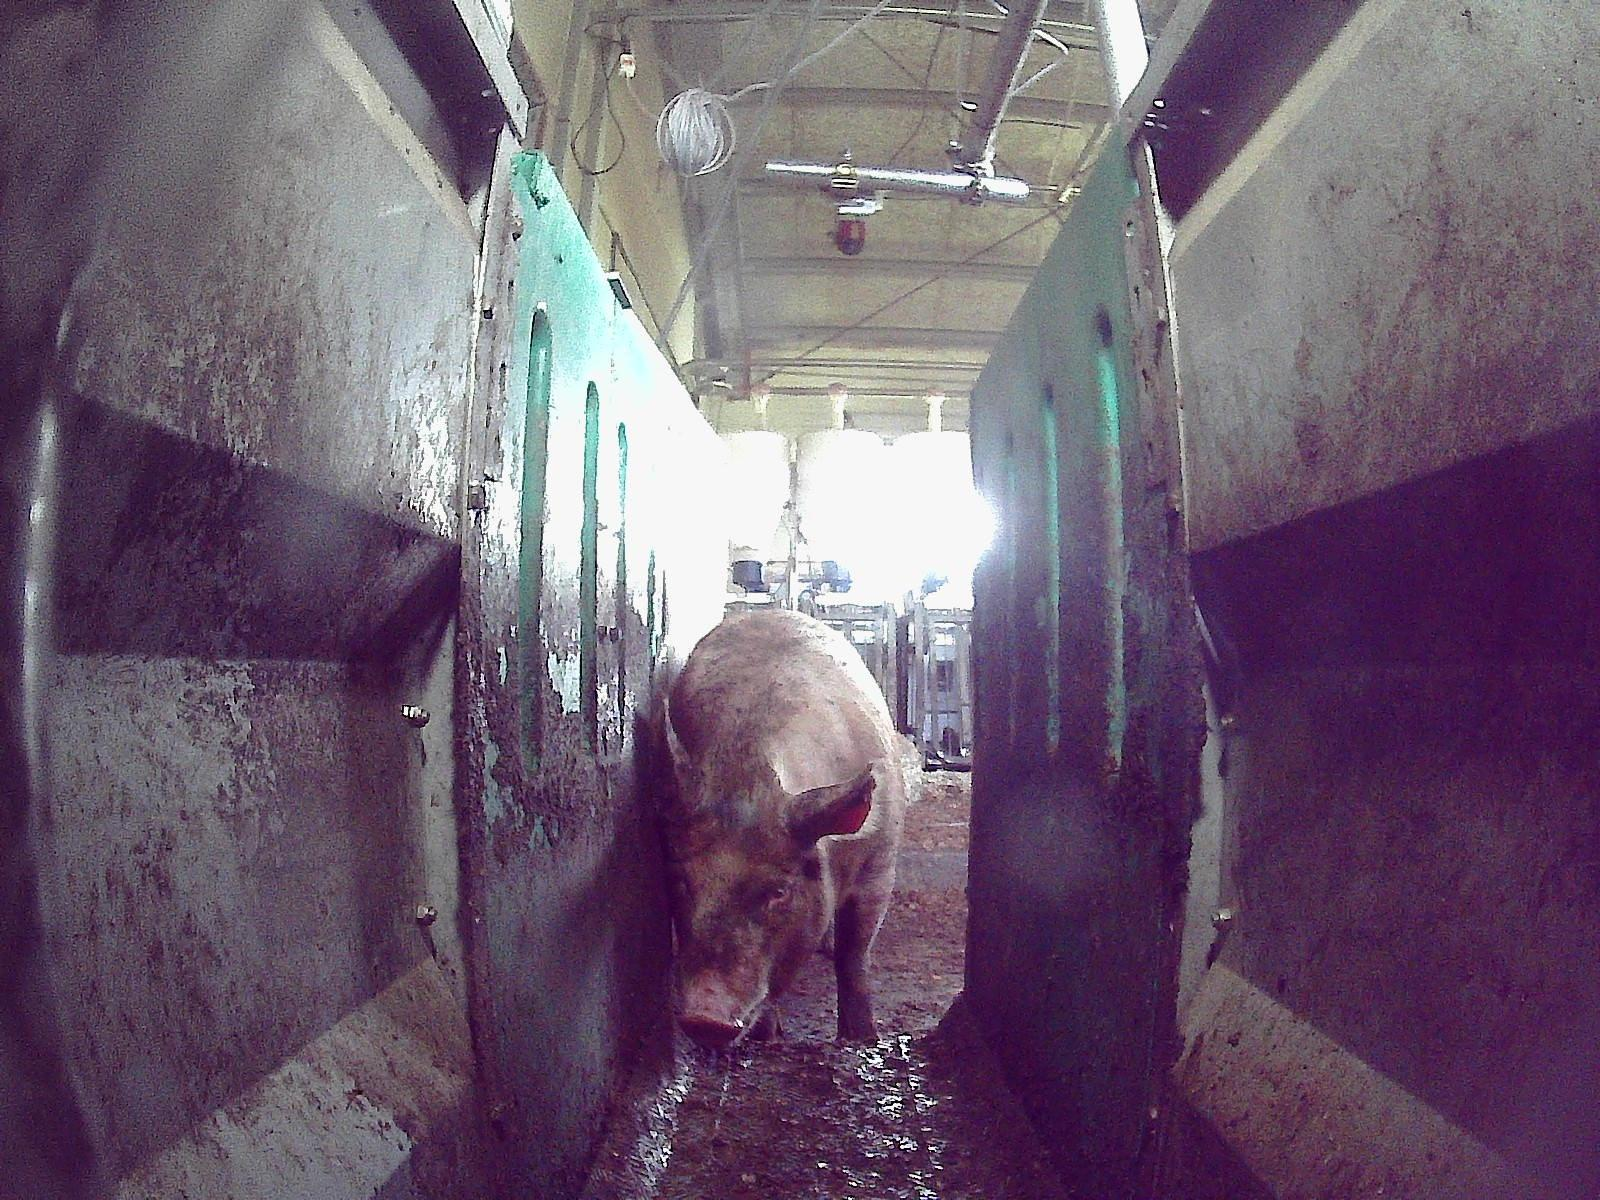Face: (657, 788, 826, 1041)
